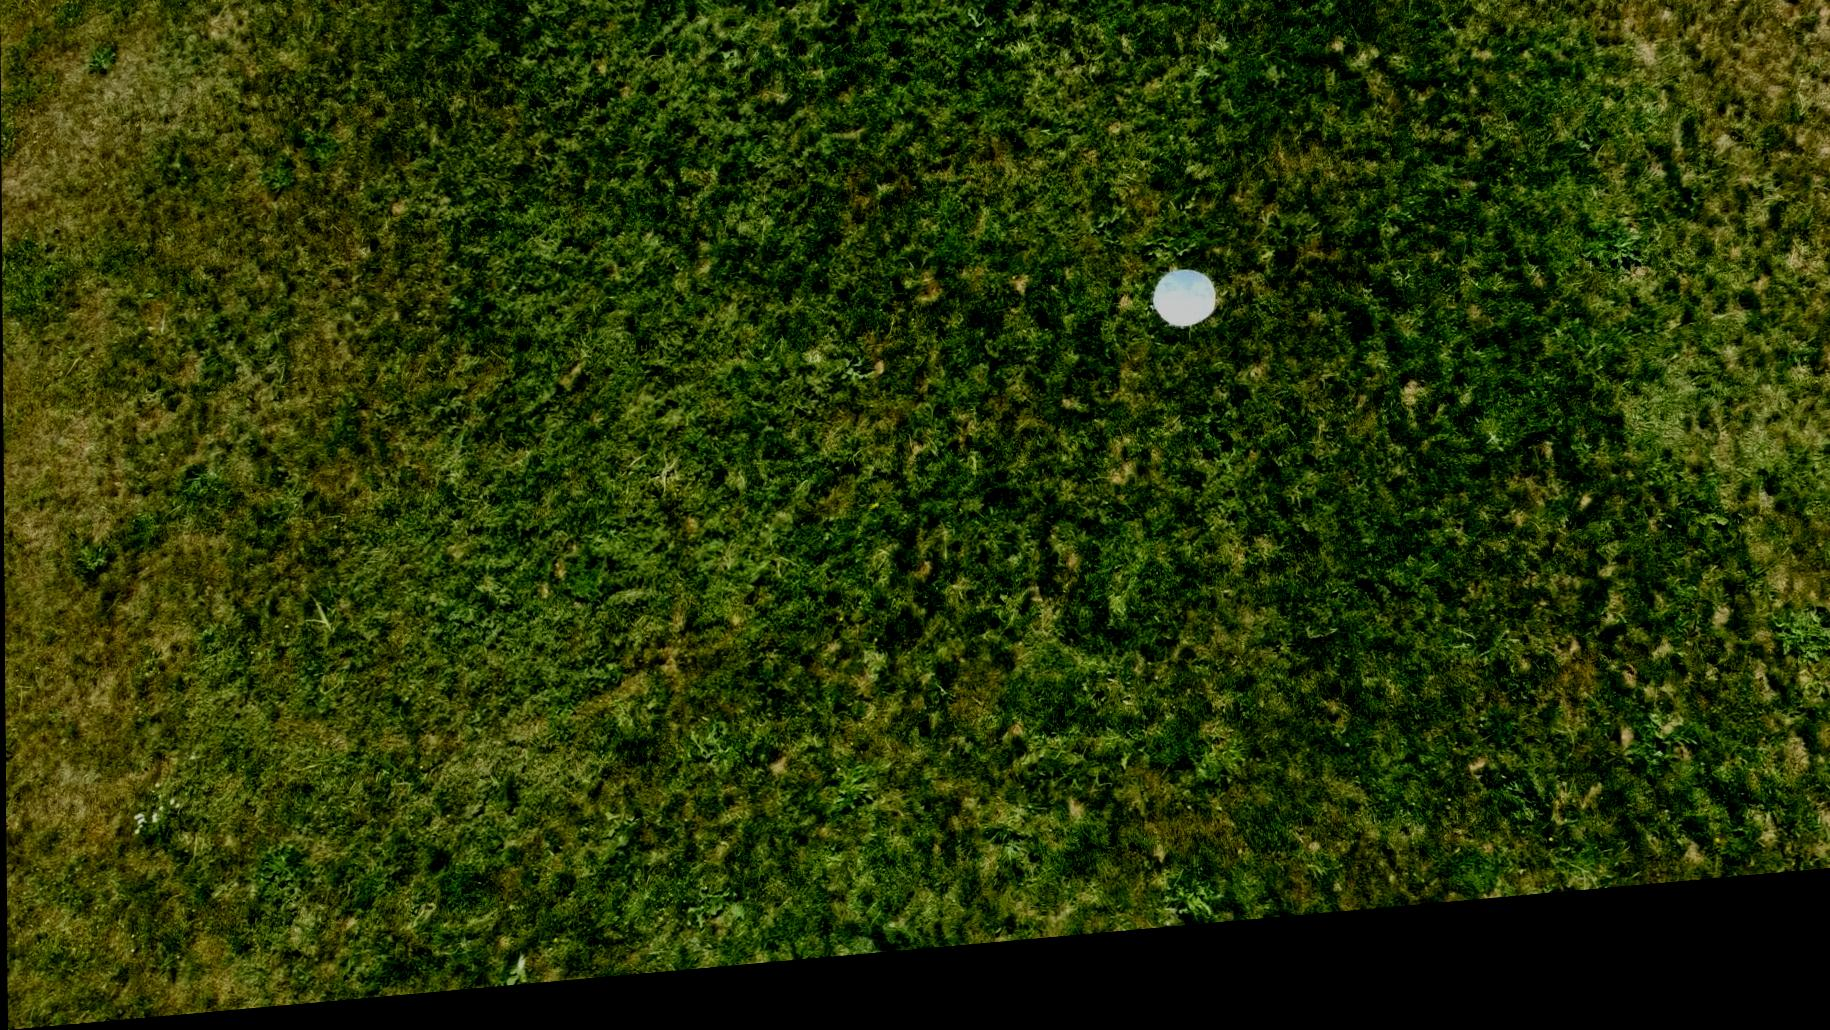Blue: (1149, 287, 1218, 355)
